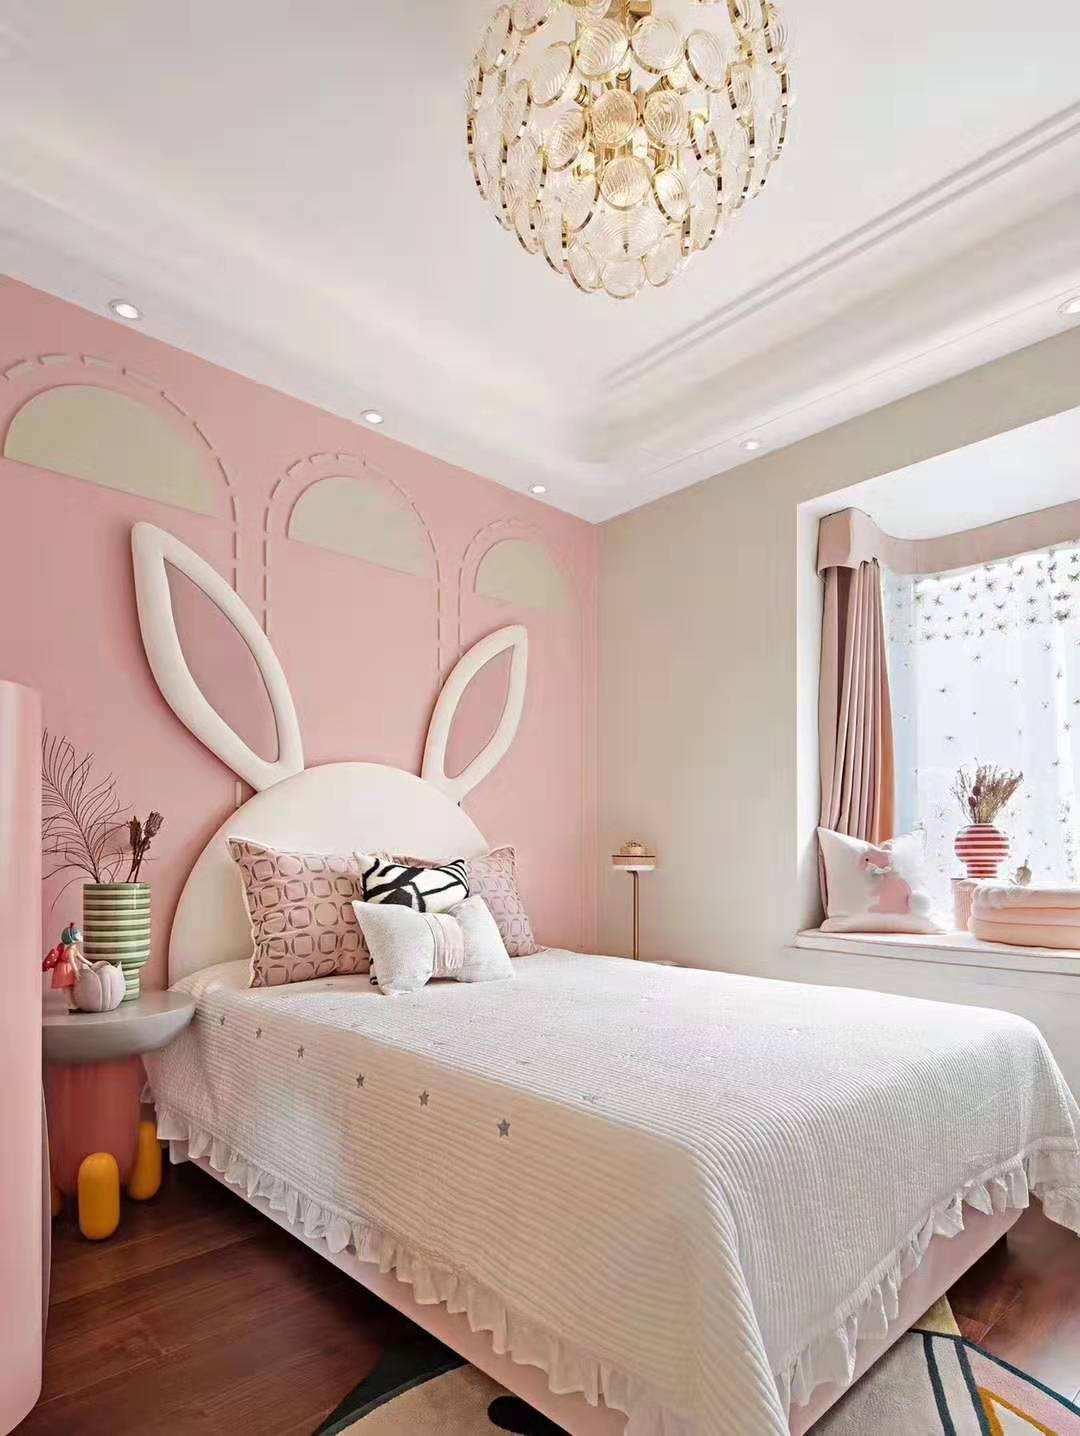床: (136, 965, 1062, 1409)
枕头: (218, 772, 534, 1002), (815, 816, 950, 930)
灯: (455, 0, 813, 309), (608, 853, 666, 978), (102, 304, 142, 332), (351, 415, 389, 439), (514, 491, 550, 516)
